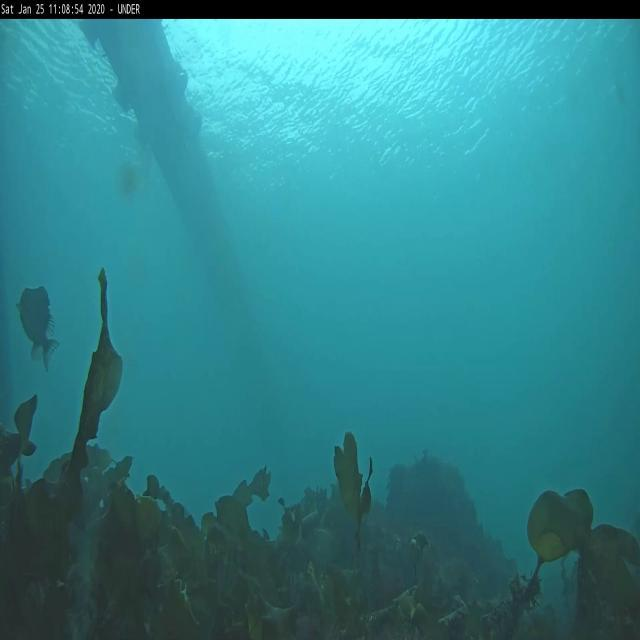fish: (21, 287, 58, 366)
